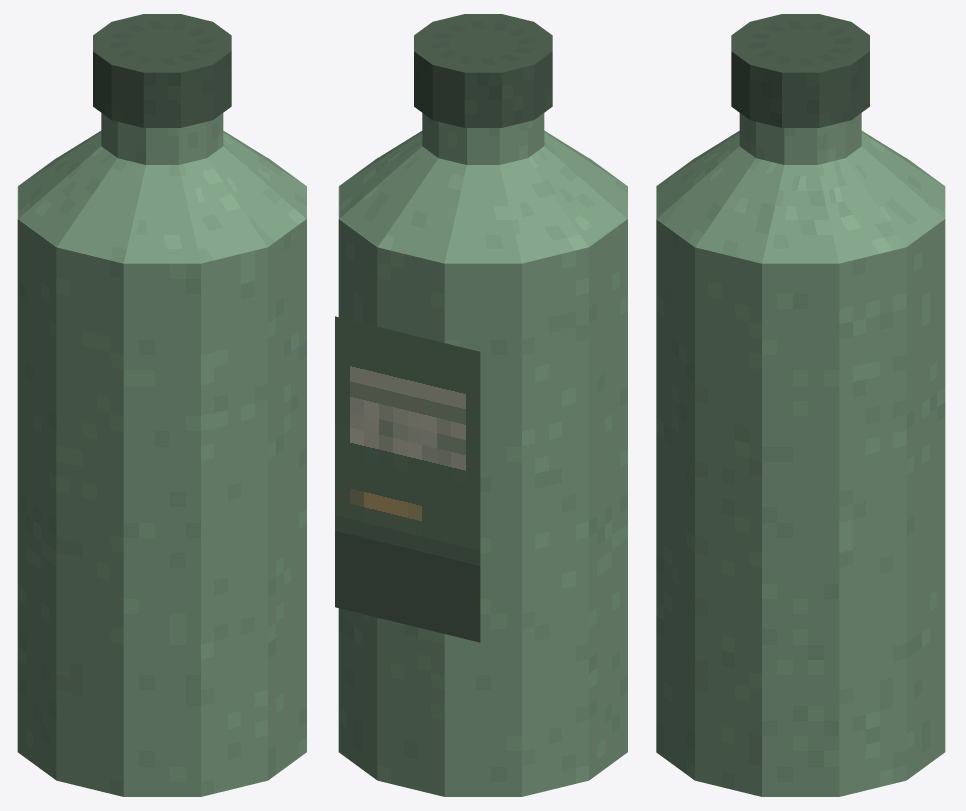
File: disinfectant.glb
The picture shows the model from 3 angles, left to right: view 1: azimuth 30°, elevation 25°; view 2: azimuth 150°, elevation 25°; view 3: azimuth 270°, elevation 25°; orthographic projection.
Visible parts, largest first — view 1: block_bottle body, block_shoulder, block_ribbed closure, block_neck; view 2: block_bottle body, block_label, block_shoulder, block_ribbed closure, block_neck; view 3: block_bottle body, block_shoulder, block_ribbed closure, block_neck.
Part boxes in pixels (bbox=[...]): block_bottle body: bbox=[17, 158, 306, 796]; block_shoulder: bbox=[18, 130, 306, 263]; block_ribbed closure: bbox=[93, 14, 231, 127]; block_neck: bbox=[101, 113, 223, 164]; block_bottle body: bbox=[338, 158, 627, 796]; block_label: bbox=[335, 316, 480, 642]; block_shoulder: bbox=[339, 130, 627, 263]; block_ribbed closure: bbox=[414, 14, 552, 127]; block_neck: bbox=[422, 113, 544, 164]; block_bottle body: bbox=[656, 158, 945, 796]; block_shoulder: bbox=[656, 130, 944, 263]; block_ribbed closure: bbox=[731, 14, 869, 127]; block_neck: bbox=[739, 113, 861, 164].
Bounding box in the file's own units: 0.0541 × 0.143 × 0.0553.
Materials: 1 (1 with a texture image).
